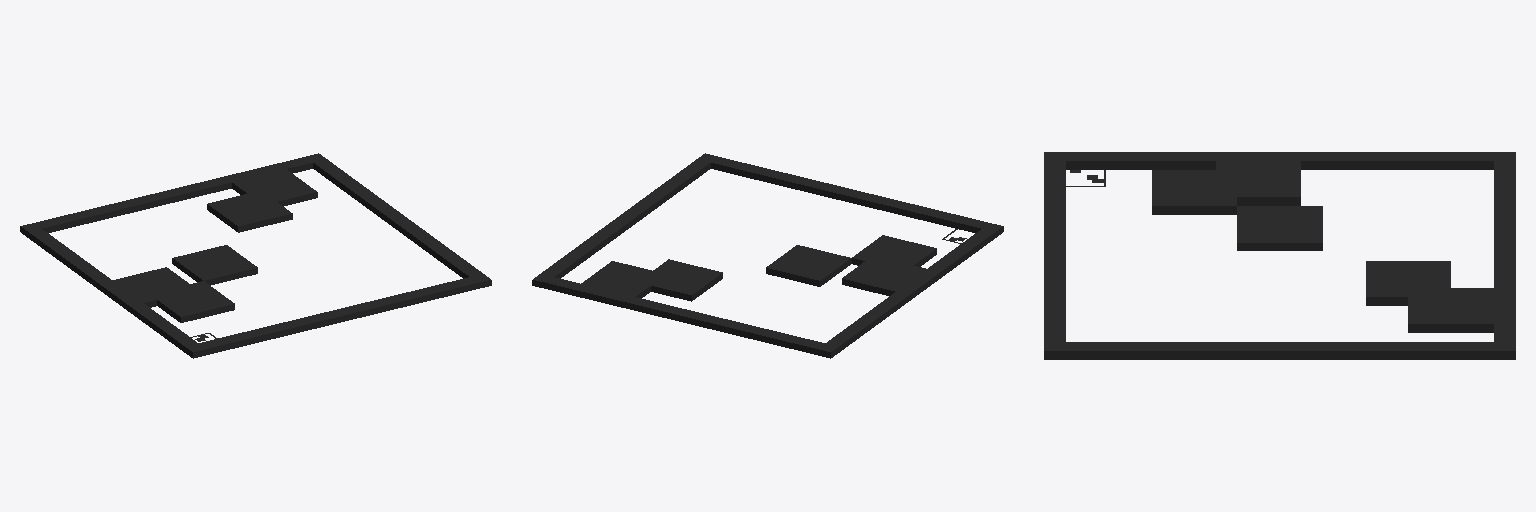
The robot description file, URDF, robot "Room29":
<robot name="Room29">
    <link name="_name">
        <visual> 
            <origin rpy="0.0 0.0 0.0" xyz="-0.4640686333944402 -0.5379206082951804 -0.010000000000000009" />
                <geometry>
                    <mesh filename="Room29/Room29.obj" scale="1 1 0.1" />
                </geometry>

            <material name="black">
                <color rgba="0.2 0.2 0.2 0.95" />
            </material>
        </visual>

       <collision concave="yes" name="collision_0">
            <origin rpy="0.0 0.0 0.0" xyz="-0.4640686333944402 -0.5379206082951804 -0.010000000000000009" />
            <geometry>
                <mesh filename="Room29/Room29_vhacd.obj" scale="1 1 0.1" />
            </geometry>
        </collision>

        <inertial> 
            <mass value="0" />
            <inertia ixx="0" ixy="0" ixz="0" iyy="0" iyz="0" izz="0" />
        </inertial> 
    </link>
</robot>

--- Render facts (derived) ---
Views: 3 orthographic renders of the robot side by side, from view 1: azimuth 30°, elevation 25°; view 2: azimuth 150°, elevation 25°; view 3: azimuth 270°, elevation 25°.
Robot: Room29 — 1 links, 0 joints (none); root link _name; default pose: every joint at zero.
Links seen in each view (by area): view 1: _name; view 2: _name; view 3: _name.
Link boxes in pixels (box(x1,y1,x2,y2)): _name: box(20, 153, 491, 358); _name: box(532, 153, 1003, 358); _name: box(1044, 152, 1515, 359).
Bounding box of the posed robot: 1 × 1 × 0.02 m (x, y, z).
Meshes: 1 distinct files referenced, 1 mesh visuals loaded (1 OBJ).